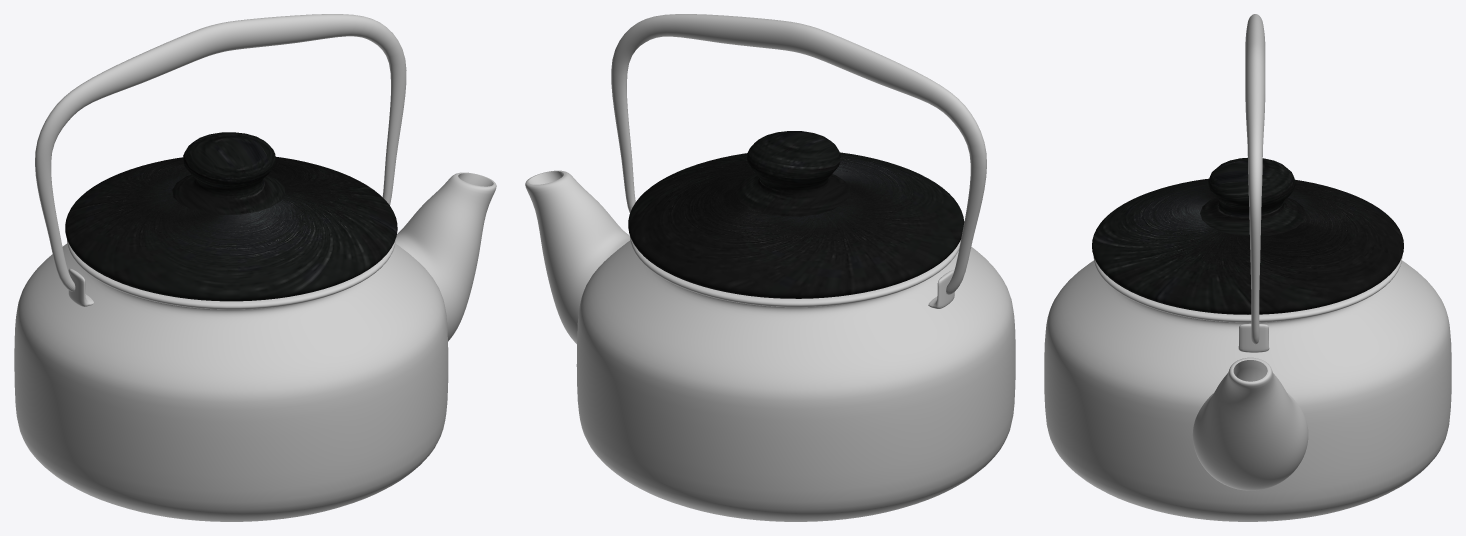
File: kettle.fbx
The picture shows the model from 3 angles, left to right: view 1: azimuth 30°, elevation 25°; view 2: azimuth 150°, elevation 25°; view 3: azimuth 270°, elevation 25°; orthographic projection. The views are drawn at different scales.
Visible parts, largest first — view 1: kettle (exterior), kettle lid, kettle handle, kettle lid handle; view 2: kettle (exterior), kettle lid, kettle handle, kettle lid handle; view 3: kettle (exterior), kettle lid, kettle handle, kettle lid handle, kettle (interior).
Part boxes in pixels (box(x1,y1,x2,y2)): kettle (exterior): box(14, 172, 496, 521); kettle lid: box(65, 157, 397, 301); kettle handle: box(35, 14, 406, 306); kettle lid handle: box(172, 132, 285, 214); kettle (exterior): box(525, 170, 1015, 521); kettle lid: box(628, 152, 964, 298); kettle handle: box(611, 14, 986, 308); kettle lid handle: box(736, 131, 849, 216); kettle (exterior): box(1044, 257, 1451, 521); kettle lid: box(1092, 178, 1403, 314); kettle handle: box(1238, 14, 1269, 352); kettle lid handle: box(1200, 157, 1306, 236); kettle (interior): box(1233, 360, 1267, 381).
Bounding box in the file's own units: 1.48 × 1.38 × 1.22.
